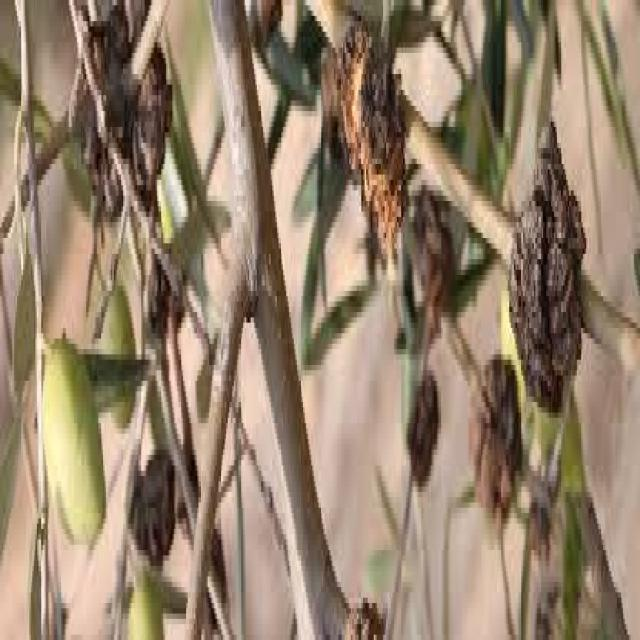Tuberculosis: (509, 121, 580, 412), (322, 16, 404, 254), (471, 365, 522, 550), (132, 46, 170, 225), (128, 450, 174, 560), (405, 364, 439, 494)
